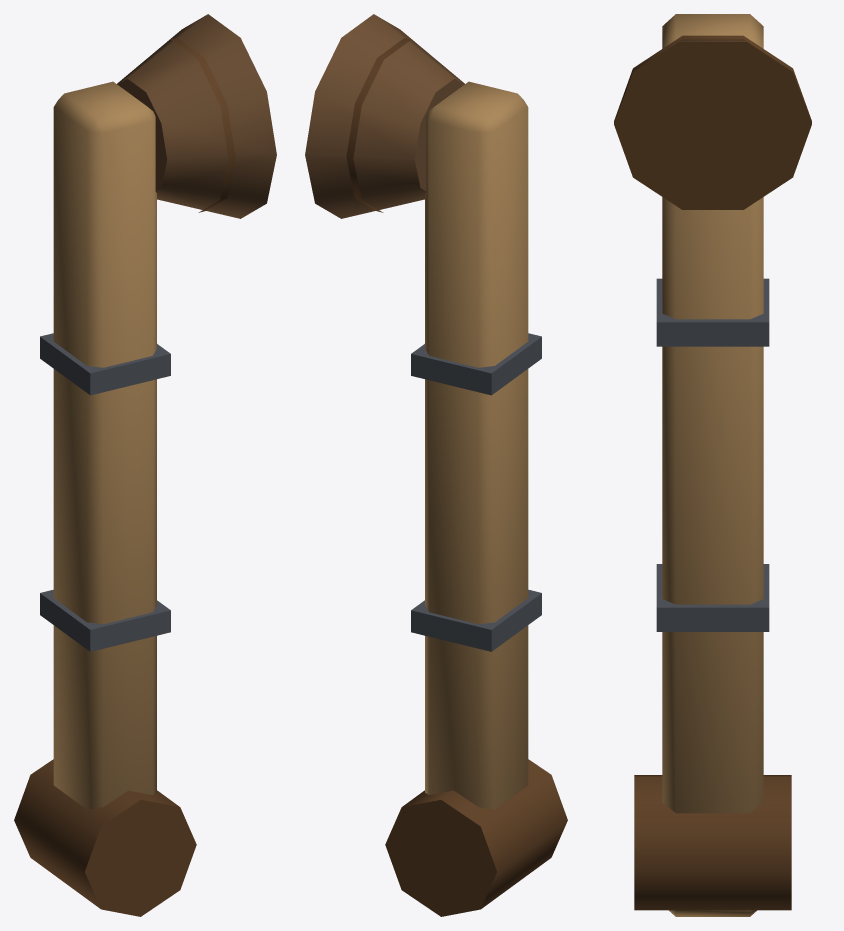
Rendered from ppl_cat_arm.glb.
3 views of the same model, side by side, from view 1: azimuth 30°, elevation 25°; view 2: azimuth 150°, elevation 25°; view 3: azimuth 270°, elevation 25° (orthographic). The views are drawn at different scales.
Visible parts, largest first — view 1: ppl_cat_arm; view 2: ppl_cat_arm; view 3: ppl_cat_arm.
Boxes of the visible parts, box(x1,y1,x2,y2) form: ppl_cat_arm: box(14, 14, 276, 916); ppl_cat_arm: box(305, 14, 567, 916); ppl_cat_arm: box(614, 14, 811, 916).
Bounding box in the file's own units: 0.1 × 0.4565 × 0.104.
